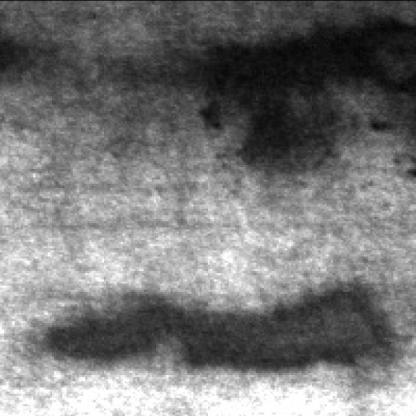patches: (179, 19, 412, 177), (33, 285, 391, 374), (0, 29, 31, 83)
